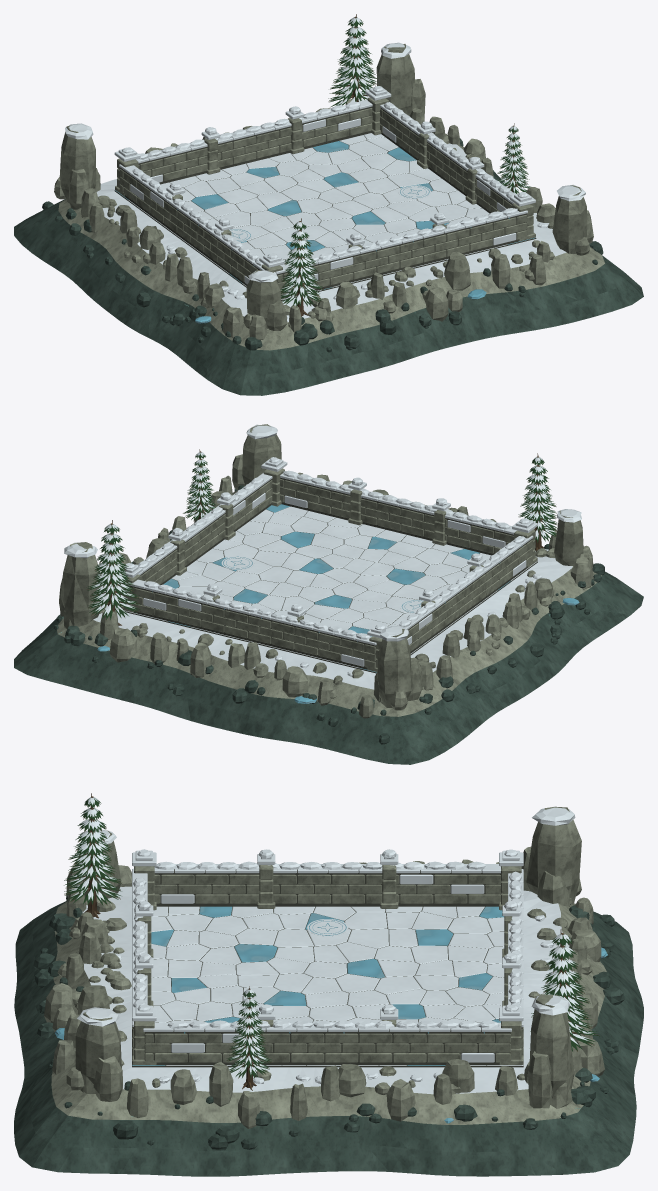
File: realm_05.fbx
3 renders of one model, top to bottom at view 1: azimuth 30°, elevation 25°; view 2: azimuth 150°, elevation 25°; view 3: azimuth 270°, elevation 25°, orthographic. The views are drawn at different scales.
Visible parts, largest first — view 1: realm_05__shore, realm_05__closed_walls, realm_05__combat_floor, realm_05__biome_dressing; view 2: realm_05__shore, realm_05__closed_walls, realm_05__combat_floor, realm_05__biome_dressing; view 3: realm_05__shore, realm_05__combat_floor, realm_05__closed_walls, realm_05__biome_dressing.
Boxes of the visible parts, bbox=[...] form: realm_05__shore: bbox=[14, 99, 643, 395]; realm_05__closed_walls: bbox=[114, 86, 535, 299]; realm_05__combat_floor: bbox=[114, 133, 536, 300]; realm_05__biome_dressing: bbox=[54, 14, 597, 337]; realm_05__shore: bbox=[14, 472, 643, 764]; realm_05__closed_walls: bbox=[117, 457, 537, 671]; realm_05__combat_floor: bbox=[124, 504, 537, 673]; realm_05__biome_dressing: bbox=[53, 424, 594, 715]; realm_05__shore: bbox=[14, 859, 643, 1176]; realm_05__combat_floor: bbox=[132, 906, 523, 1067]; realm_05__closed_walls: bbox=[132, 849, 523, 1065]; realm_05__biome_dressing: bbox=[55, 793, 607, 1123].
Size of the model in its own units: 112900 by 112668 by 38046.
